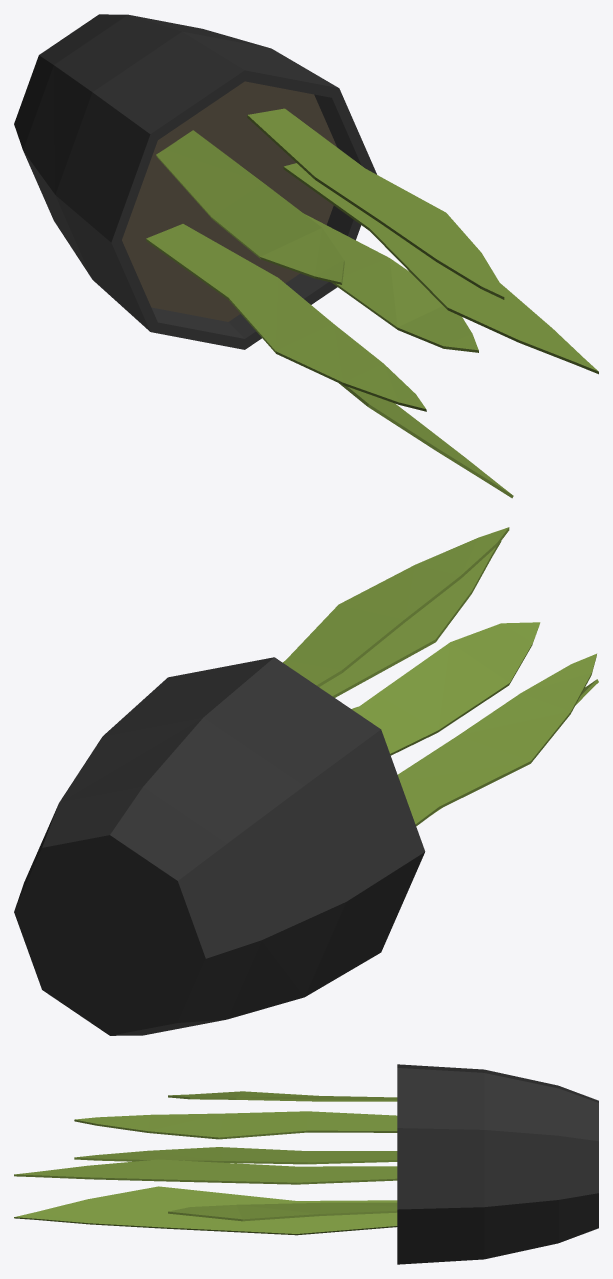
File: houseplant-4.obj
3 renders of one model, top to bottom at view 1: azimuth 30°, elevation 25°; view 2: azimuth 150°, elevation 25°; view 3: azimuth 270°, elevation 25°, orthographic. The views are drawn at different scales.
Parts seen in each view (by area): view 1: houseplant-4; view 2: houseplant-4; view 3: houseplant-4.
Part boxes in pixels (x1,y1,x2,y2): houseplant-4: (14, 14, 598, 498); houseplant-4: (14, 527, 598, 1035); houseplant-4: (14, 1064, 598, 1264).
Bounding box in the file's own units: 6.56 × 6.56 × 18.
